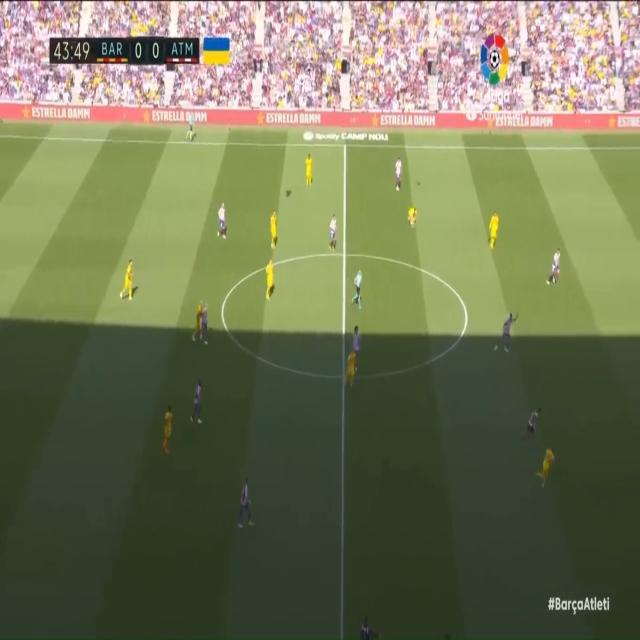ball: (203, 336, 210, 348)
player: (235, 473, 257, 537), (495, 305, 517, 361), (524, 399, 544, 460), (543, 441, 563, 495), (544, 240, 564, 293), (193, 301, 213, 351), (352, 320, 369, 373), (161, 402, 177, 456), (344, 347, 359, 400), (119, 257, 134, 308), (201, 295, 218, 338), (189, 381, 204, 428), (265, 255, 278, 303), (266, 205, 279, 251), (488, 208, 501, 254), (215, 199, 228, 242), (393, 152, 404, 193), (328, 215, 340, 252), (406, 201, 418, 236), (303, 150, 314, 188)
referee: (350, 265, 366, 311), (186, 108, 196, 145)
